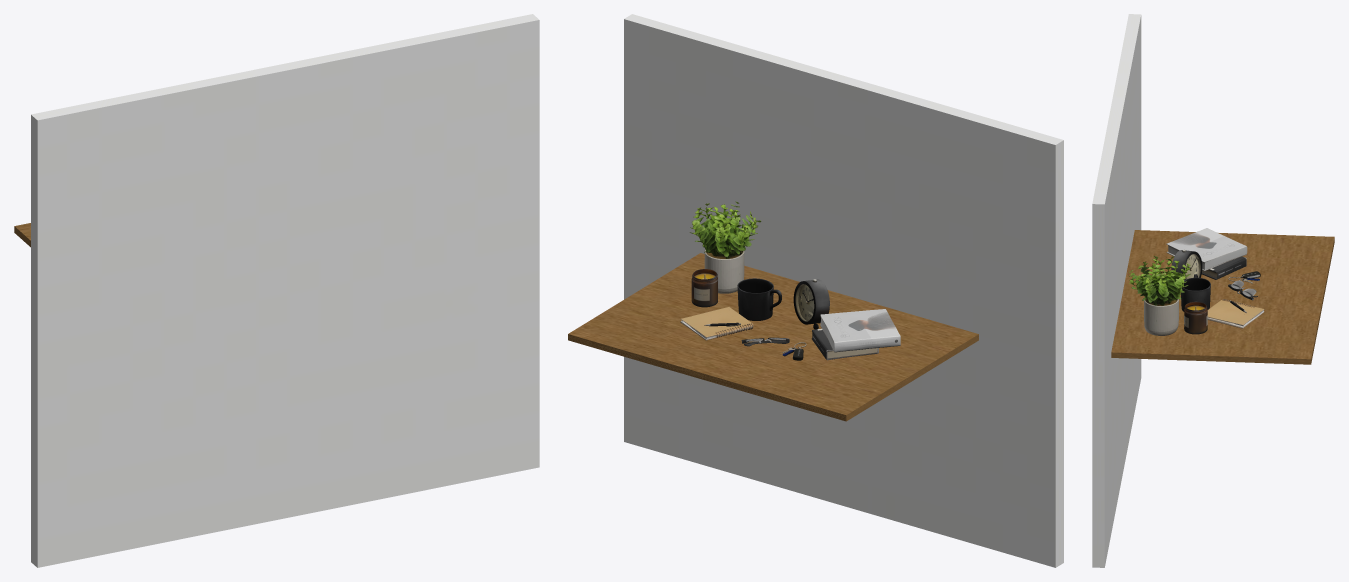
Rendered from ours.glb.
3 renders of one model, left to right at view 1: azimuth 30°, elevation 25°; view 2: azimuth 150°, elevation 25°; view 3: azimuth 270°, elevation 25°, orthographic. The views are drawn at different scales.
Parts seen in each view (by area): view 1: wall_0; view 2: wall_0, desk_0, obj_flower_pot_0, obj_book_1, obj_mug_0, obj_notebook_0, obj_clock_0, obj_candle_0, obj_book_0; view 3: wall_0, desk_0, obj_flower_pot_0, obj_book_1, obj_notebook_0, obj_mug_0, obj_candle_0, obj_clock_0, obj_book_0.
Part boxes in pixels (x1,y1,x2,y2): wall_0: [31, 14, 539, 567]; wall_0: [624, 14, 1063, 567]; desk_0: [568, 253, 978, 421]; obj_flower_pot_0: [689, 201, 761, 293]; obj_book_1: [820, 309, 900, 352]; obj_mug_0: [737, 278, 781, 320]; obj_notebook_0: [680, 307, 753, 340]; obj_clock_0: [793, 279, 829, 329]; obj_candle_0: [691, 269, 717, 307]; obj_book_0: [811, 328, 878, 360]; wall_0: [1092, 14, 1141, 567]; desk_0: [1111, 230, 1334, 364]; obj_flower_pot_0: [1129, 256, 1190, 335]; obj_book_1: [1166, 228, 1247, 270]; obj_notebook_0: [1207, 299, 1264, 328]; obj_mug_0: [1181, 274, 1210, 311]; obj_candle_0: [1184, 301, 1207, 334]; obj_clock_0: [1171, 249, 1202, 279]; obj_book_0: [1201, 256, 1246, 279].
Bounding box in the file's own units: 1.8 × 1.6 × 0.9671.
Materials: 12 (12 with a texture image).
